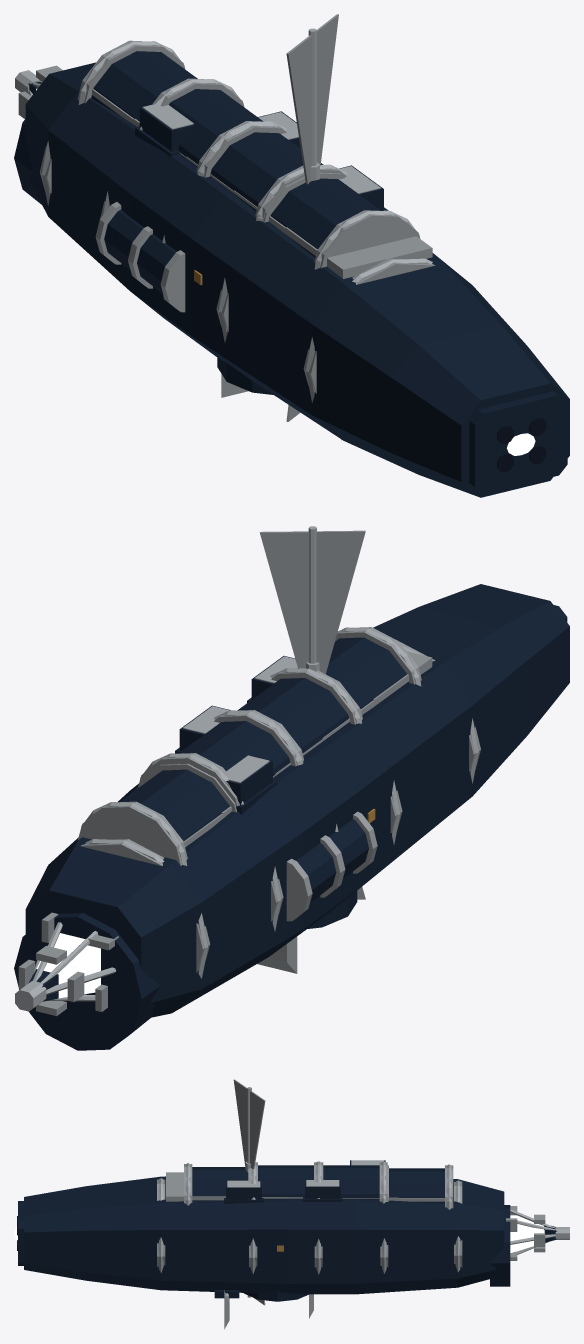
The picture shows the model from 3 angles, top to bottom: view 1: azimuth 30°, elevation 25°; view 2: azimuth 150°, elevation 25°; view 3: azimuth 270°, elevation 25°; orthographic projection. The views are drawn at different scales.
Parts seen in each view (by area): view 1: RIMWARD_HULL; view 2: RIMWARD_HULL, RIMWARD_EMISSIVE; view 3: RIMWARD_HULL, RIMWARD_EMISSIVE.
Boxes of the visible parts, x1,y1,x2,y2 form: RIMWARD_HULL: (14, 14, 569, 497); RIMWARD_HULL: (14, 526, 569, 1050); RIMWARD_EMISSIVE: (36, 933, 100, 998); RIMWARD_HULL: (17, 1079, 569, 1329); RIMWARD_EMISSIVE: (510, 1215, 544, 1252).
Size of the model in its own units: 2.49 by 4.76 by 10.85.
